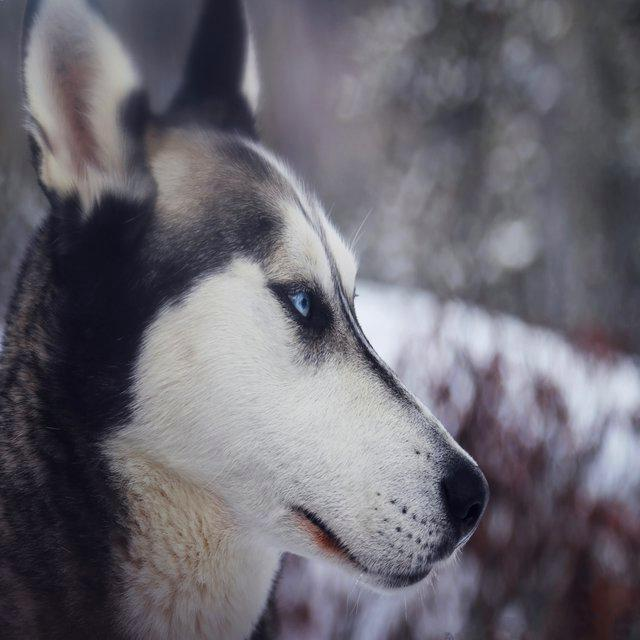husky: (2, 0, 492, 639)
